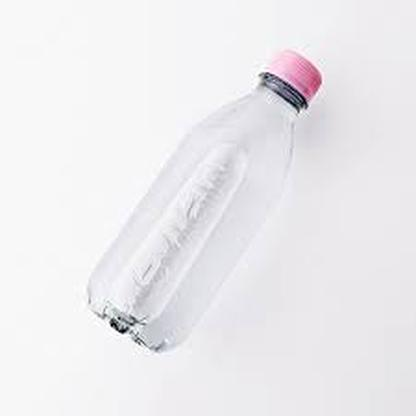plastic bottle: (82, 47, 322, 354)
